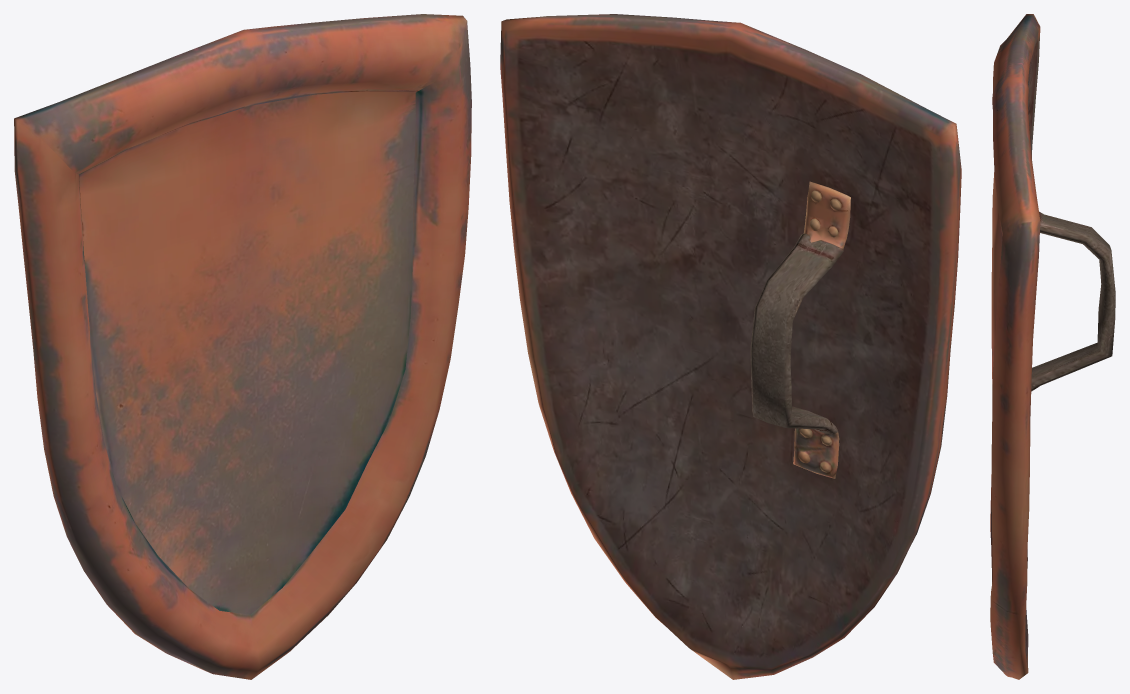
3 views of the same model, side by side, from view 1: azimuth 30°, elevation 25°; view 2: azimuth 150°, elevation 25°; view 3: azimuth 270°, elevation 25° (orthographic). The views are drawn at different scales.
Parts seen in each view (by area): view 1: SM_Kite_Bronze_1H_01_LOD0; view 2: SM_Kite_Bronze_1H_01_LOD0; view 3: SM_Kite_Bronze_1H_01_LOD0.
Part boxes in pixels (bbox=[...]): SM_Kite_Bronze_1H_01_LOD0: bbox=[14, 14, 471, 679]; SM_Kite_Bronze_1H_01_LOD0: bbox=[500, 14, 961, 679]; SM_Kite_Bronze_1H_01_LOD0: bbox=[990, 14, 1115, 679].
Bounding box in the file's own units: 0.576 × 0.7862 × 0.1495.
1 material, 1 textured.
